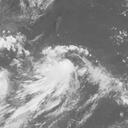cyclone: (31, 44, 99, 109)
